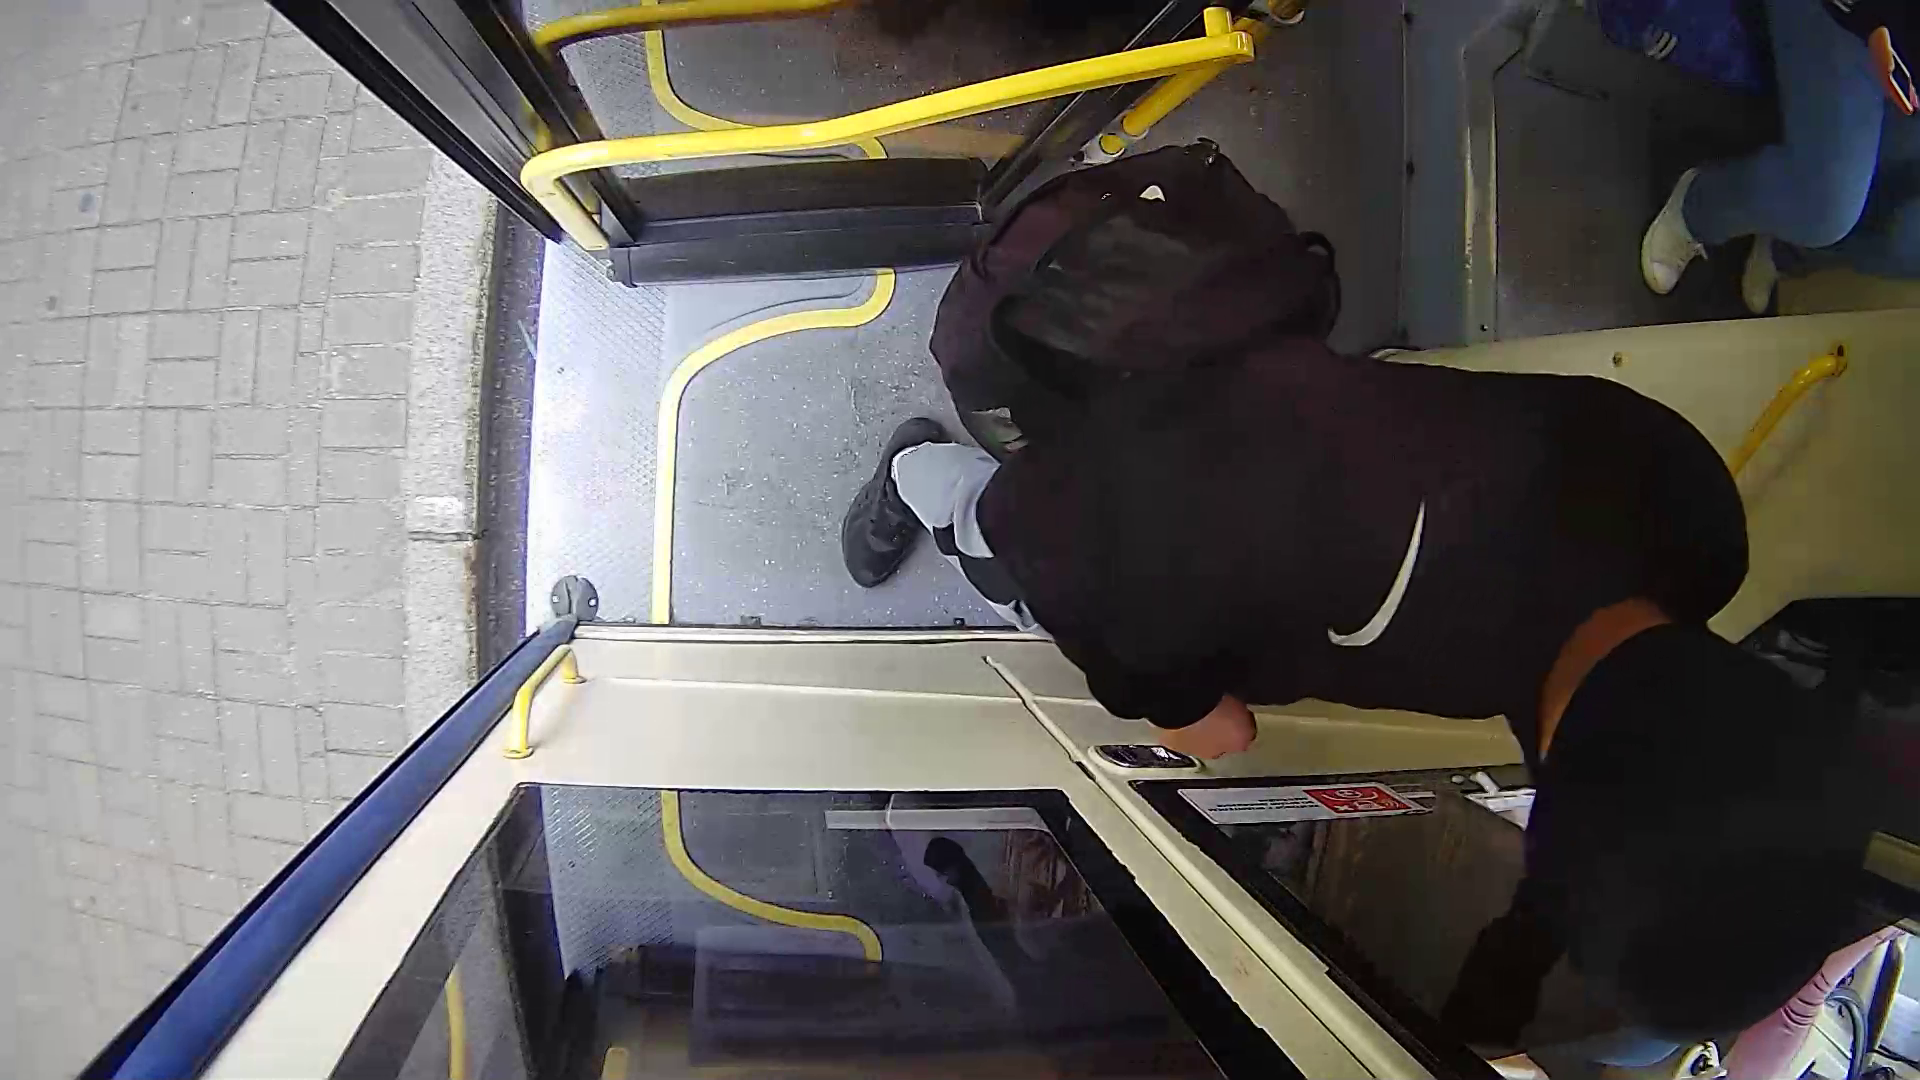person: (825, 150, 1854, 978)
